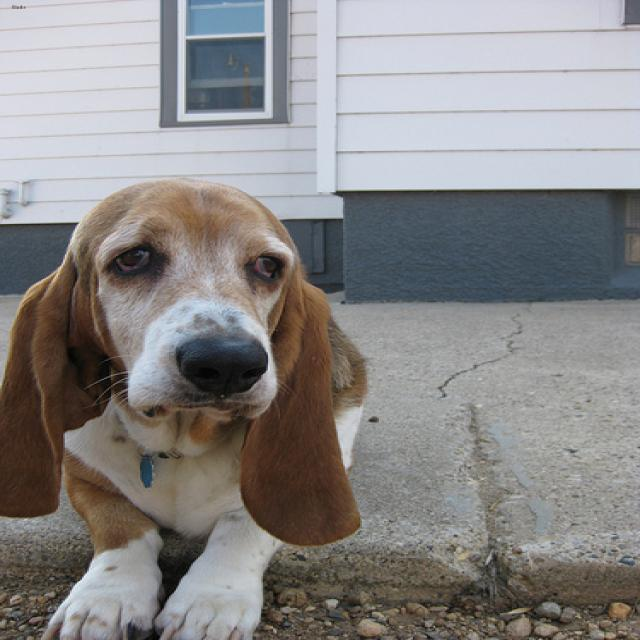dog-basset_hound: (2, 175, 387, 637)
